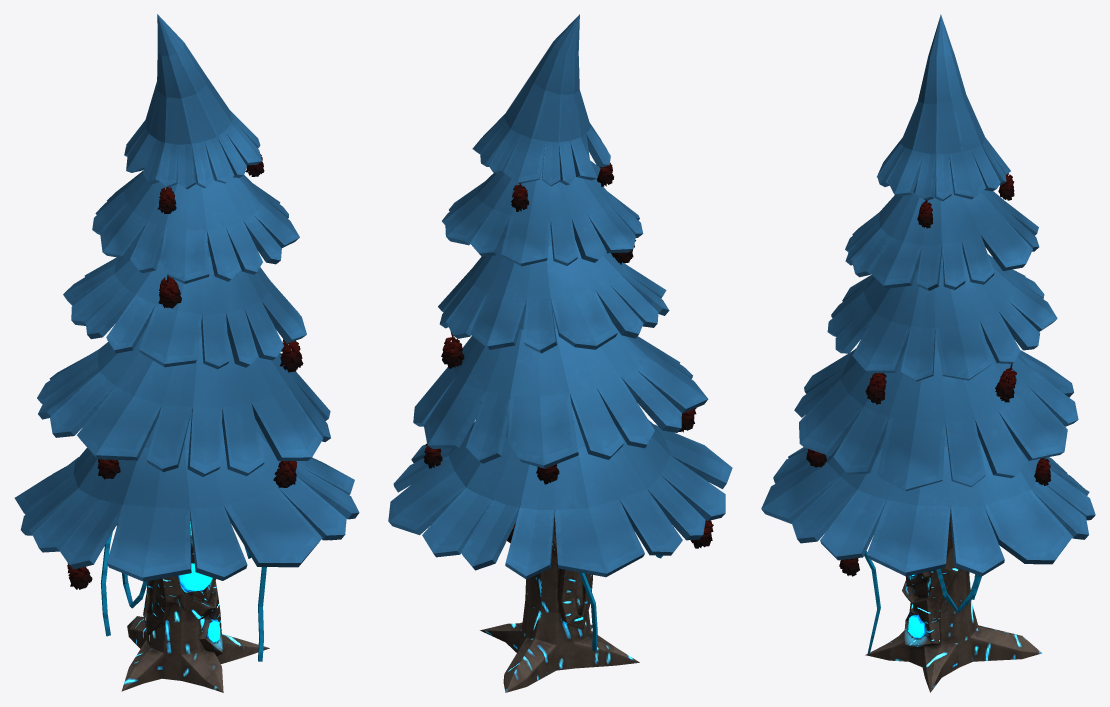
The model's file is magic tree.glb.
3 views of the same model, side by side, from view 1: azimuth 30°, elevation 25°; view 2: azimuth 150°, elevation 25°; view 3: azimuth 270°, elevation 25° (orthographic). The views are drawn at different scales.
Parts seen in each view (by area): view 1: Cylinder.002; view 2: Cylinder.002; view 3: Cylinder.002.
Boxes of the visible parts, left/top/right/bottom form: Cylinder.002: left=14, top=14, right=359, bottom=692; Cylinder.002: left=388, top=14, right=732, bottom=692; Cylinder.002: left=761, top=14, right=1095, bottom=692.
Bounding box in the file's own units: 3.13 × 6.53 × 3.15.
2 materials, 2 textured.
